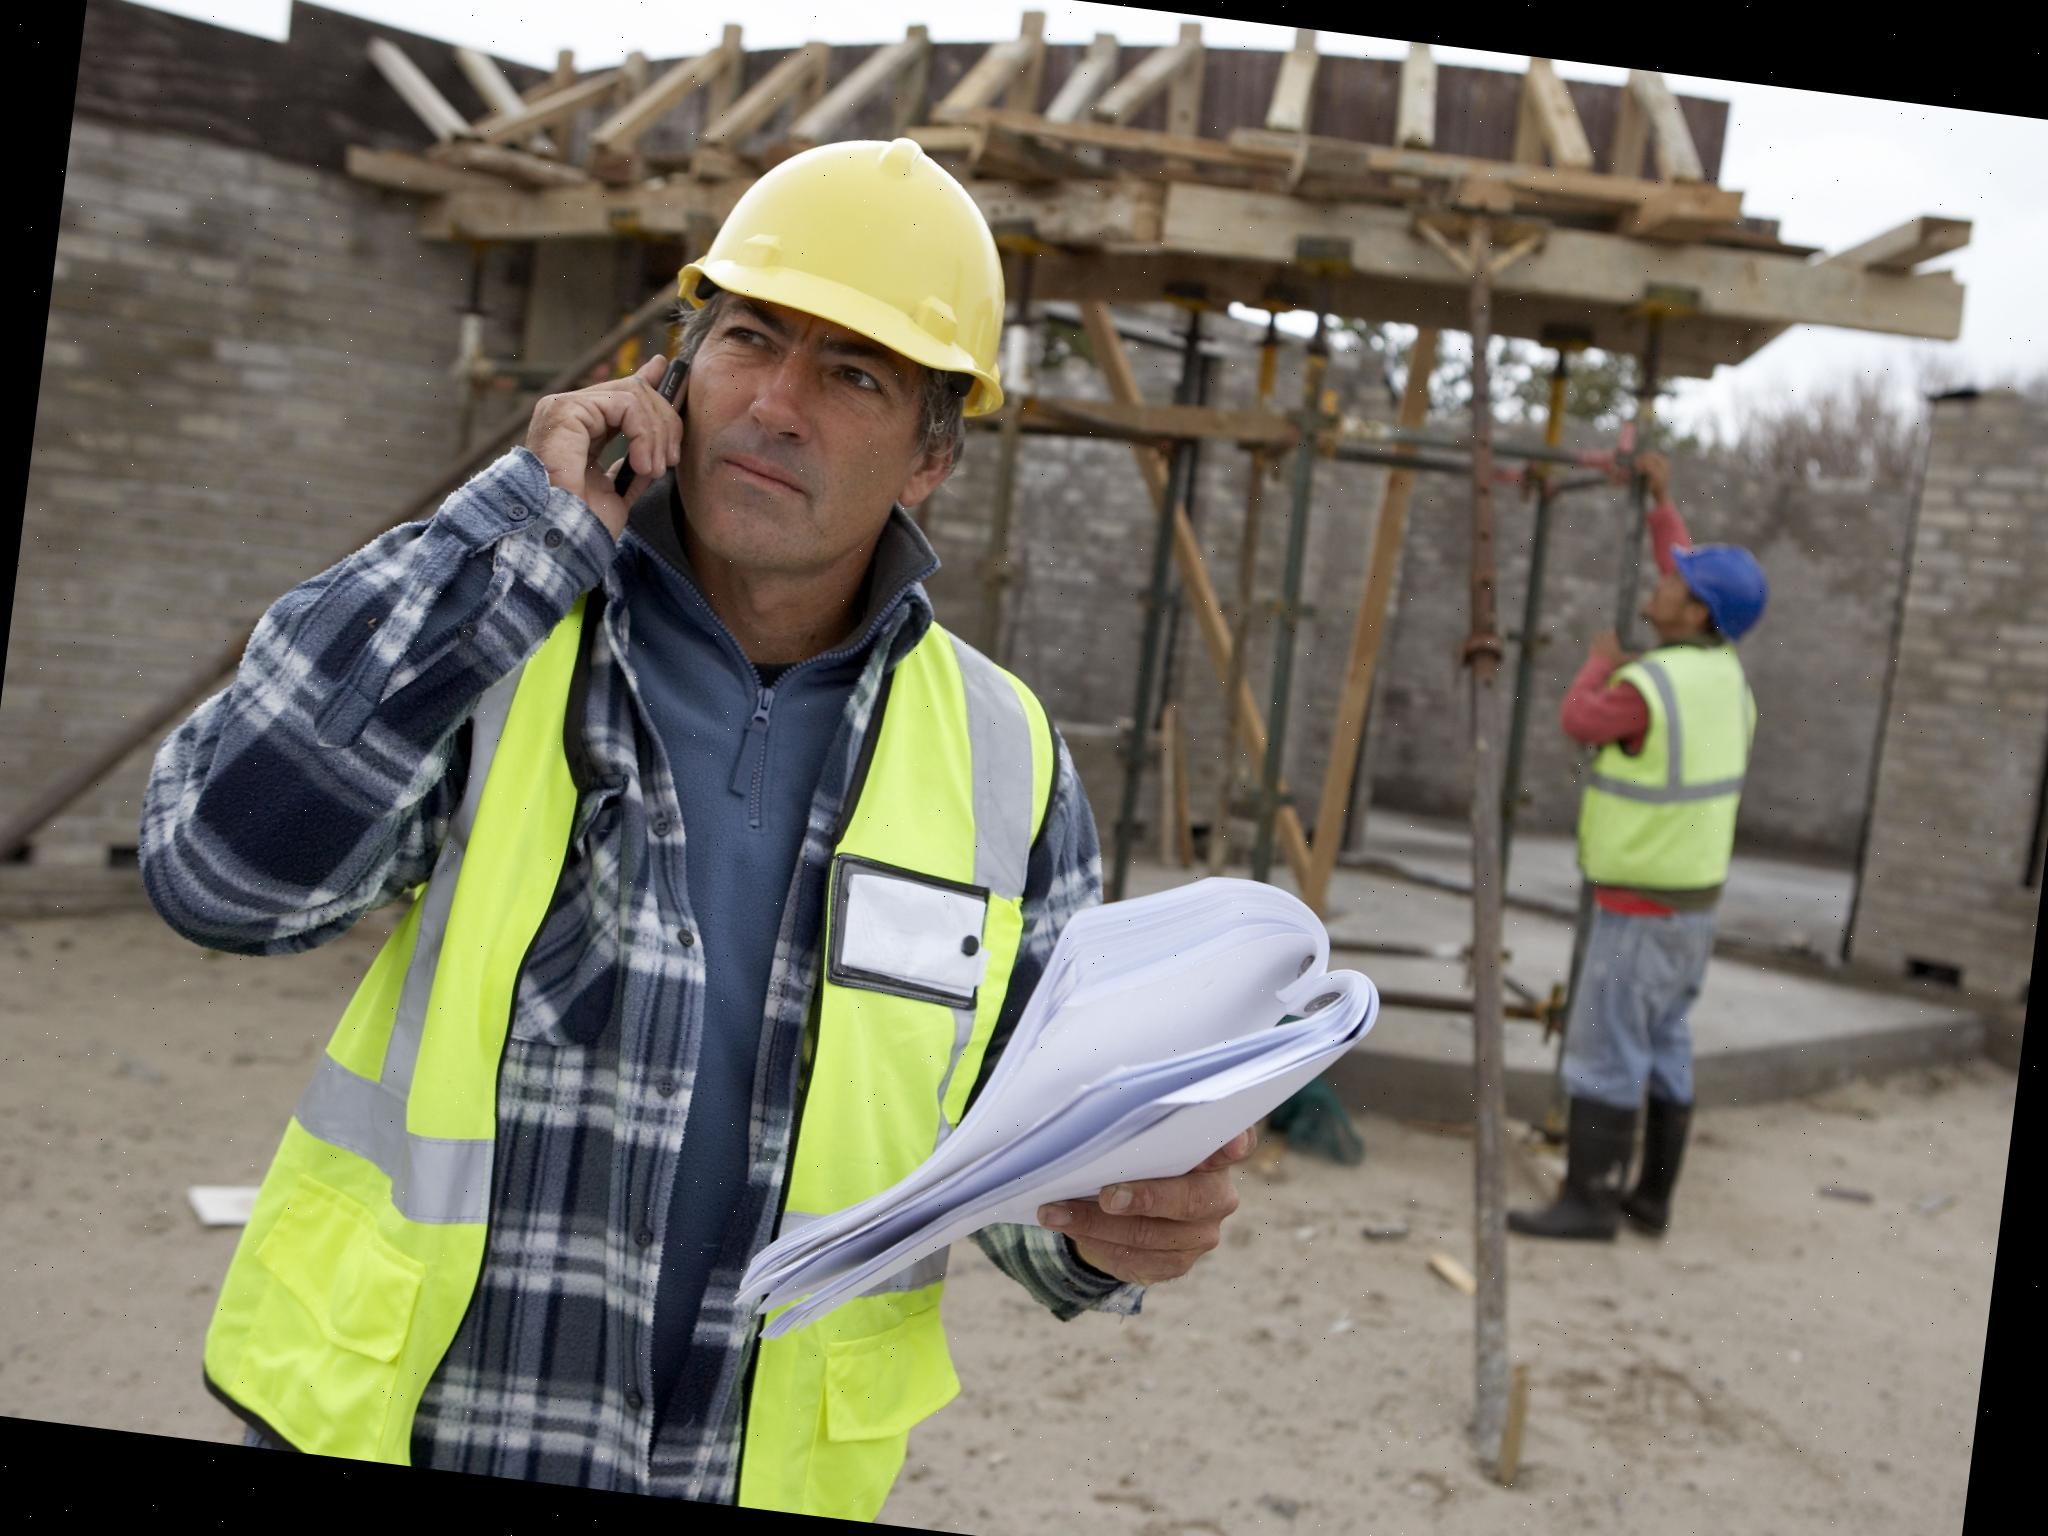helmet: (666, 116, 1045, 405), (1659, 529, 1775, 647)
wear: (247, 579, 1027, 1530), (1576, 637, 1766, 904)
